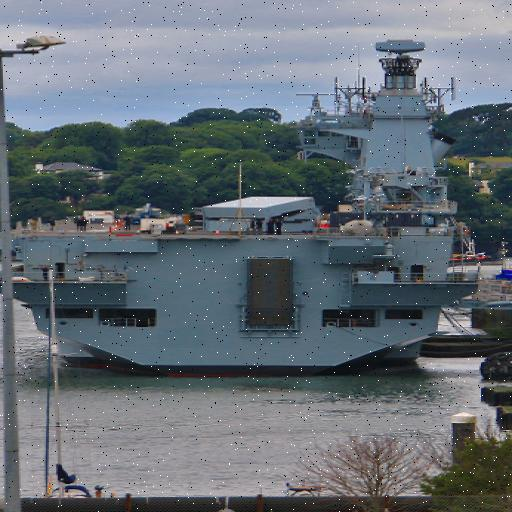Portanaves: (1, 34, 451, 381)
